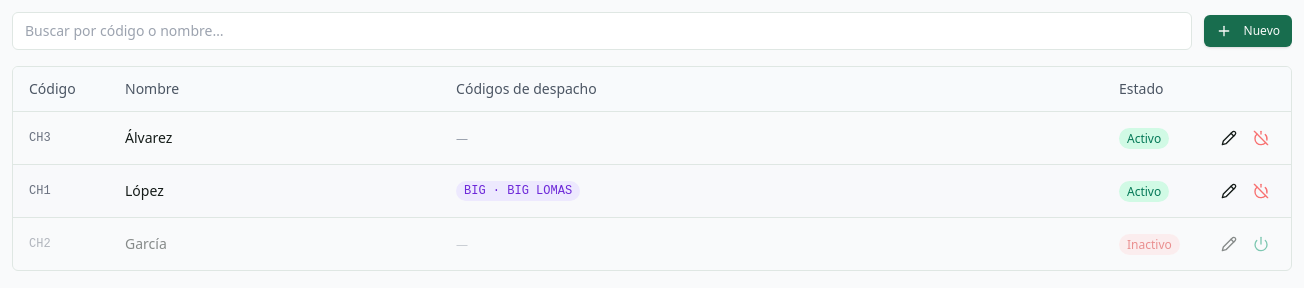
ChoferesTab › filtra por código en minúsculas aunque el código real esté en mayúsculas
Type "ch1" into the field with placeholder "Buscar por código o nombre…" at (602, 31), box [12, 12, 1192, 50]
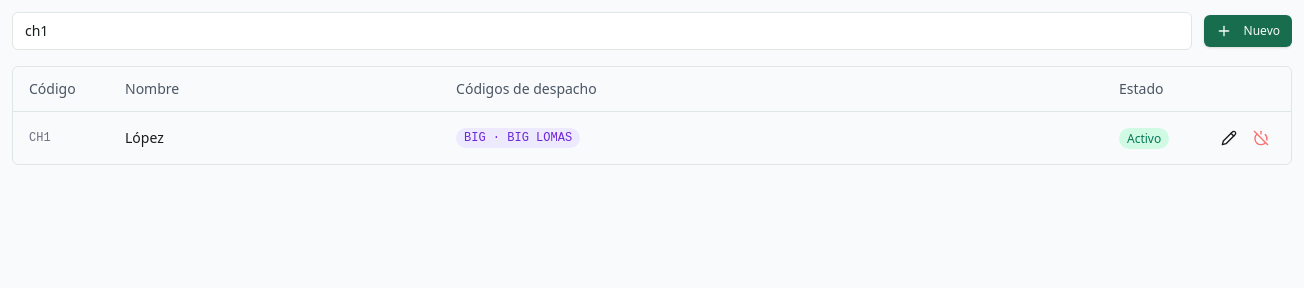
expect the text "López" is shown: met, box [109, 112, 440, 164]
expect the text "García" is gone: met
